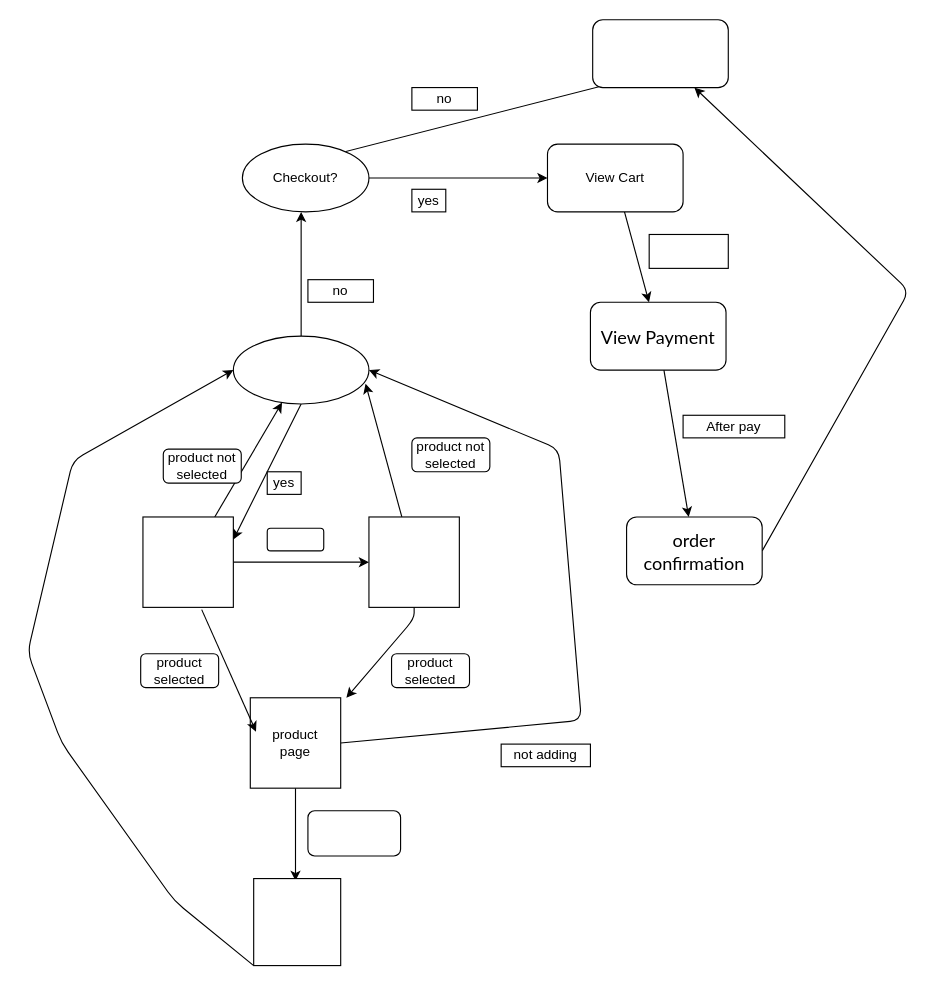
Image size: 938x994. Some labels were removed from this diagram. The box of each missing label's shape, as (x1, y1, x2, y2) in pixels:
add to shopping cart: (307, 810, 401, 856)
Confirmation Page of Shoping Cart: (253, 877, 341, 966)
continue Shopping?: (232, 335, 369, 404)
EXIT: (592, 19, 728, 88)
Home Page: (142, 516, 233, 607)
proceed to pay: (648, 233, 728, 268)
result: (266, 527, 324, 551)
Search result Page: (368, 516, 459, 607)
